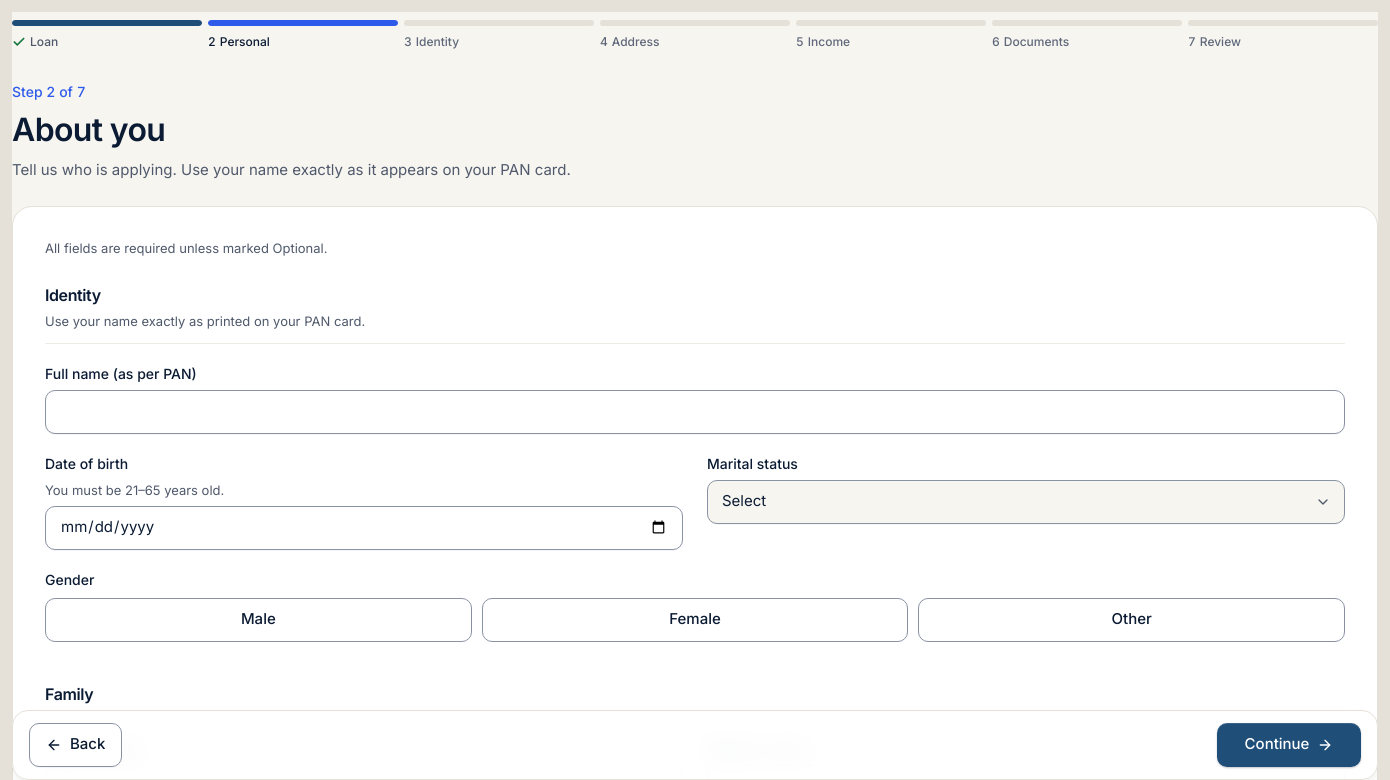
Test case: Step 2 — personal details › blocks Continue until every required answer is given
The width and height of the screenshot is (1390, 780).
Click the button "Continue" at (1289, 745), box [1217,723,1361,767]
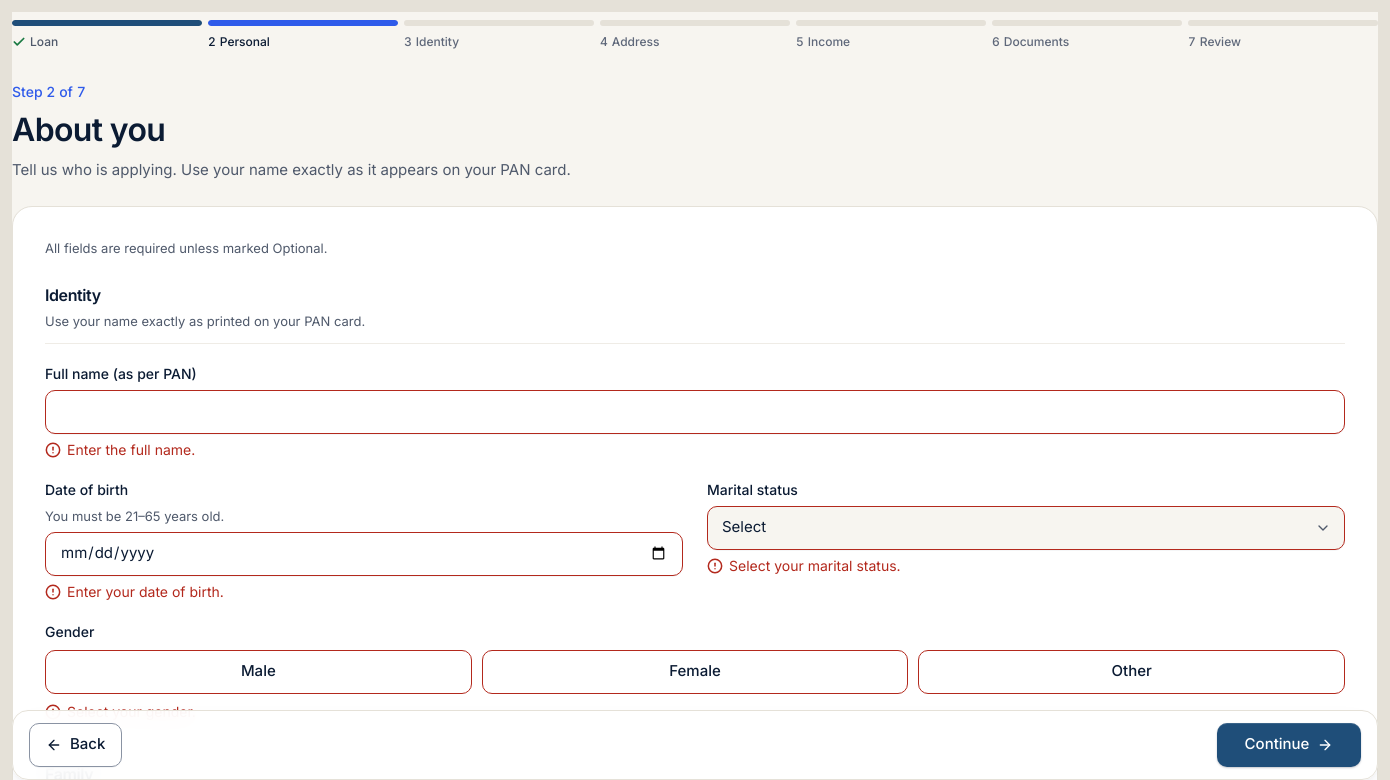
Expected: the heading "About you" is shown, [12,110,165,149]
Expected: the text "Enter your date of birth." is shown, [67,582,224,602]
Expected: the text "Select your gender." is shown, [67,702,196,722]
